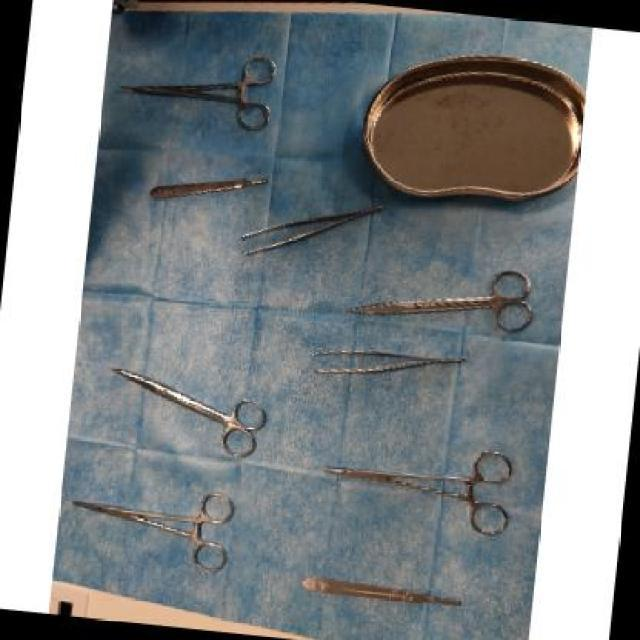tools_table: (56, 14, 590, 623)
